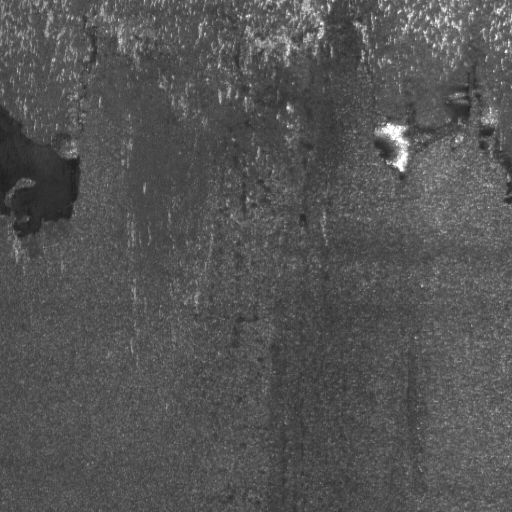qiaopi: (371, 91, 509, 180), (2, 104, 80, 238)
